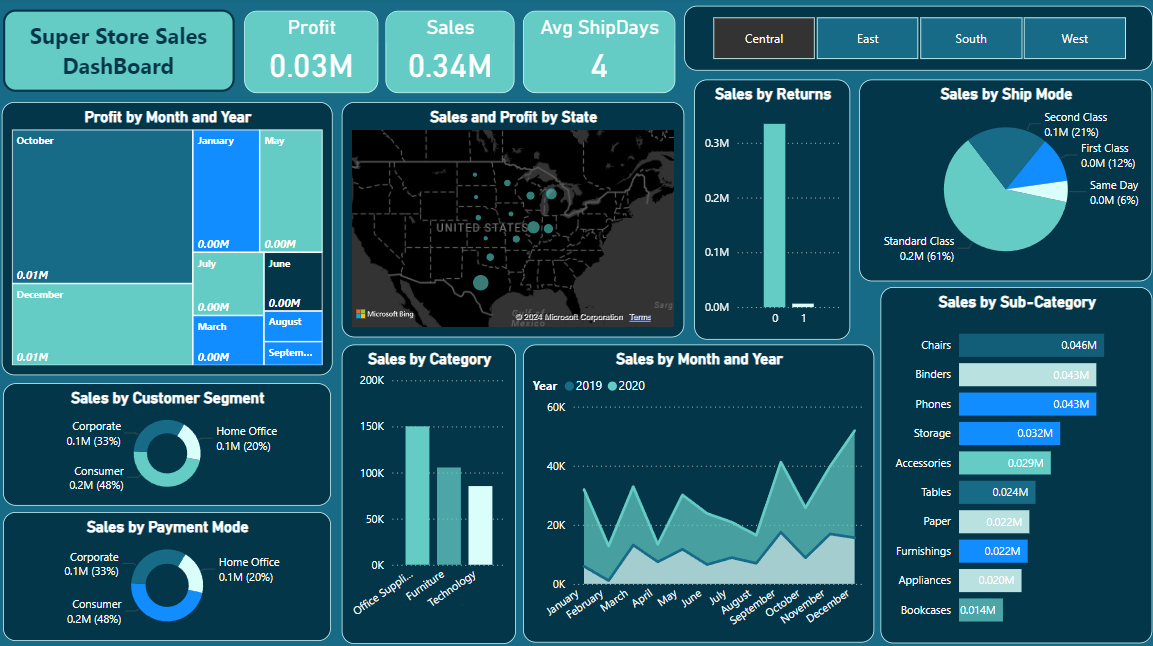

This screenshot's page, from the dashboard's own definition file:
{"tool":"powerbi","page":{"name":"Page 1","canvas":[1280,720],"ordinal":0},"visuals":[{"type":"columnChart","title":"Sales by Category","fields":{"Category":["SuperStore_Sales_Dataset.Category"],"Y":["SuperStore_Sales_Dataset.Sales"]},"box":[382.9,381.4,191.4,328.6],"z":0},{"type":"clusteredBarChart","title":"Sales by Sub-Category","fields":{"Category":["SuperStore_Sales_Dataset.Sub-Category"],"Y":["SuperStore_Sales_Dataset.Sales"]},"box":[974.3,318.6,298.6,391.4],"z":1000},{"type":"pieChart","title":"Sales by Ship Mode","fields":{"Category":["SuperStore_Sales_Dataset.Ship Mode"],"Y":["SuperStore_Sales_Dataset.Sales"]},"box":[951.4,90,321.4,221.4],"z":2000},{"type":"stackedAreaChart","title":"Sales by Month and Year","fields":{"Category":["SuperStore_Sales_Dataset.Order Date.Variation.Date Hierarchy.Month"],"Y":["SuperStore_Sales_Dataset.Sales"],"Series":["SuperStore_Sales_Dataset.Order Date.Variation.Date Hierarchy.Year"]},"box":[581.4,381.4,385.7,327.1],"z":3000},{"type":"treemap","title":"Profit by Month and Year","fields":{"Group":["SuperStore_Sales_Dataset.Order Date.Variation.Date Hierarchy.Month","SuperStore_Sales_Dataset.Order Date.Variation.Date Hierarchy.Year"],"Values":["SuperStore_Sales_Dataset.Profit"]},"box":[10,115.7,362.9,300],"z":4000},{"type":"map","title":" Sales and Profit by State","fields":{"Category":["SuperStore_Sales_Dataset.State"],"Size":["SuperStore_Sales_Dataset.Sales"]},"box":[382.9,115.7,375.7,258.6],"z":5000},{"type":"donutChart","title":"Sales by Customer Segment","fields":{"Category":["SuperStore_Sales_Dataset.Segment"],"Y":["SuperStore_Sales_Dataset.Sales"]},"box":[11.4,424.3,360,134.3],"z":6000},{"type":"donutChart","title":"Sales by Payment Mode","fields":{"Category":["SuperStore_Sales_Dataset.Segment"],"Y":["SuperStore_Sales_Dataset.Sales"]},"box":[11.4,565.7,360,141.4],"z":7000},{"type":"slicer","fields":{"Values":["SuperStore_Sales_Dataset.Region"]},"box":[758.6,10,514.3,71.4],"z":8000},{"type":"columnChart","title":"Sales by Returns","fields":{"Category":["SuperStore_Sales_Dataset.Returns"],"Y":["SuperStore_Sales_Dataset.Sales"]},"box":[770,90,171.4,285.7],"z":9000},{"type":"card","title":"Sales","fields":{"Values":["SuperStore_Sales_Dataset.Sales"]},"box":[431.4,15.7,141.4,90],"z":10000},{"type":"card","title":"Profit","fields":{"Values":["SuperStore_Sales_Dataset.Profit"]},"box":[275.7,15.7,147.1,90],"z":11000},{"type":"card","title":"Avg ShipDays","fields":{"Values":["SuperStore_Sales_Dataset.Days"]},"box":[581.4,15.7,167.1,90],"z":12000},{"type":"textbox","box":[11.4,14.3,254.3,90],"z":13000}]}

Visuals, with their boxes in screenshot pixels (x1, y1, x2, y2), scaled from the page's 1280x720 canvas onto the 1153x646 screenshot:
"Sales by Category" columnChart: (left=345, top=342, right=517, bottom=637)
"Sales by Sub-Category" clusteredBarChart: (left=878, top=286, right=1147, bottom=637)
"Sales by Ship Mode" pieChart: (left=857, top=81, right=1147, bottom=279)
"Sales by Month and Year" stackedAreaChart: (left=524, top=342, right=871, bottom=636)
"Profit by Month and Year" treemap: (left=9, top=104, right=336, bottom=373)
" Sales and Profit by State" map: (left=345, top=104, right=683, bottom=336)
"Sales by Customer Segment" donutChart: (left=10, top=381, right=335, bottom=501)
"Sales by Payment Mode" donutChart: (left=10, top=508, right=335, bottom=634)
slicer - SuperStore_Sales_Dataset.Region: (left=683, top=9, right=1147, bottom=73)
"Sales by Returns" columnChart: (left=694, top=81, right=848, bottom=337)
"Sales" card: (left=389, top=14, right=516, bottom=95)
"Profit" card: (left=248, top=14, right=381, bottom=95)
"Avg ShipDays" card: (left=524, top=14, right=674, bottom=95)
textbox: (left=10, top=13, right=239, bottom=94)
